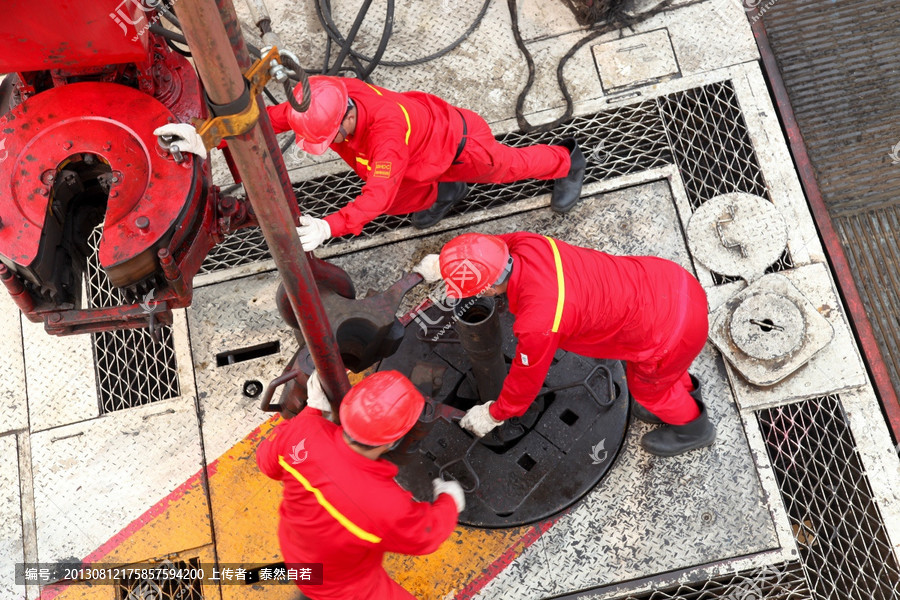safetyhat: (405, 221, 758, 375), (249, 60, 587, 210), (235, 359, 441, 600)
